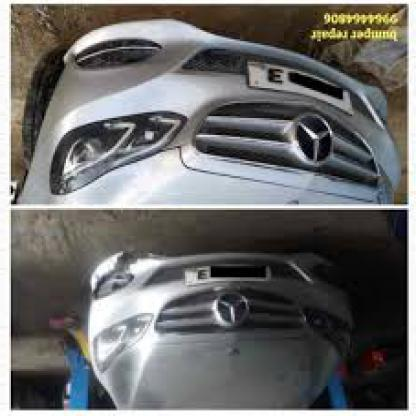dent: (92, 256, 144, 297)
